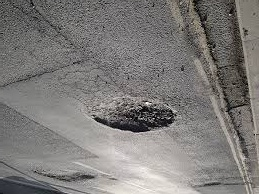pothole: (191, 2, 249, 112), (74, 90, 182, 133), (28, 165, 97, 184), (199, 180, 221, 187)
